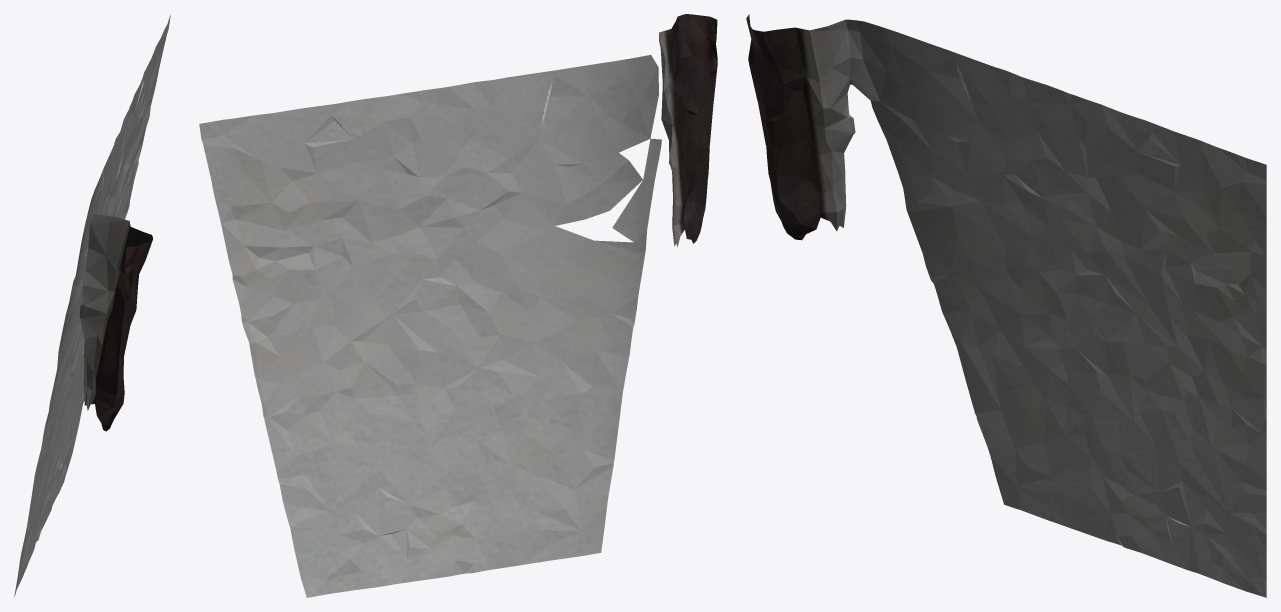
3 renders of one model, left to right at view 1: azimuth 30°, elevation 25°; view 2: azimuth 150°, elevation 25°; view 3: azimuth 270°, elevation 25°, orthographic. The views are drawn at different scales.
Bounding box in the file's own units: 0.552 × 0.8374 × 0.8046.
2 materials, 2 textured.
